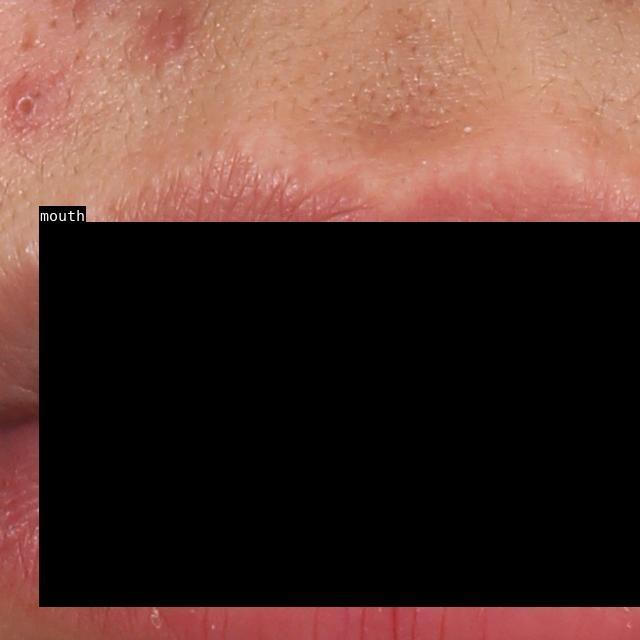papule: (5, 82, 42, 130)
